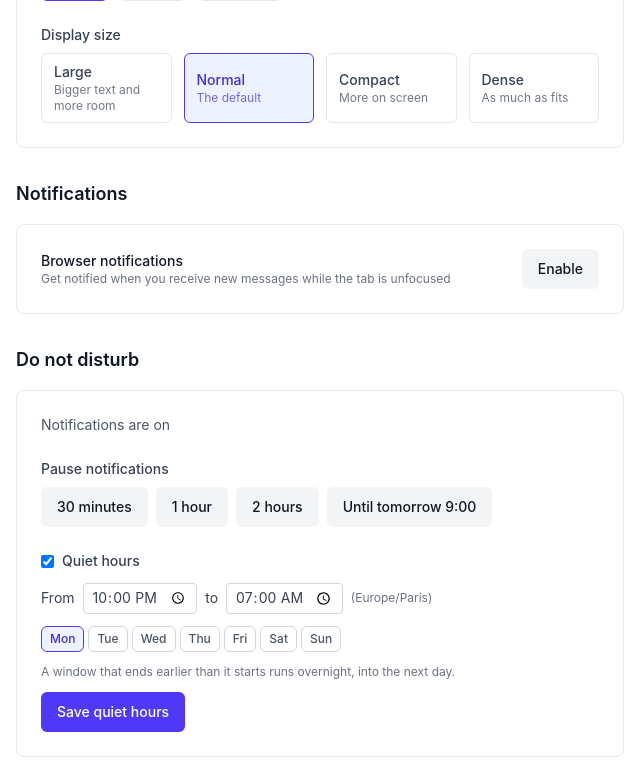
the settings section › cannot save quiet hours with no day
This screenshot has width=641, height=774.
(page scrolled)
Expected: the text "Pause notifications" is shown, x1=41 y1=460 x2=169 y2=477
Click the button "Mon". click: [63, 639]
box: x1=41 y1=626 x2=84 y2=652
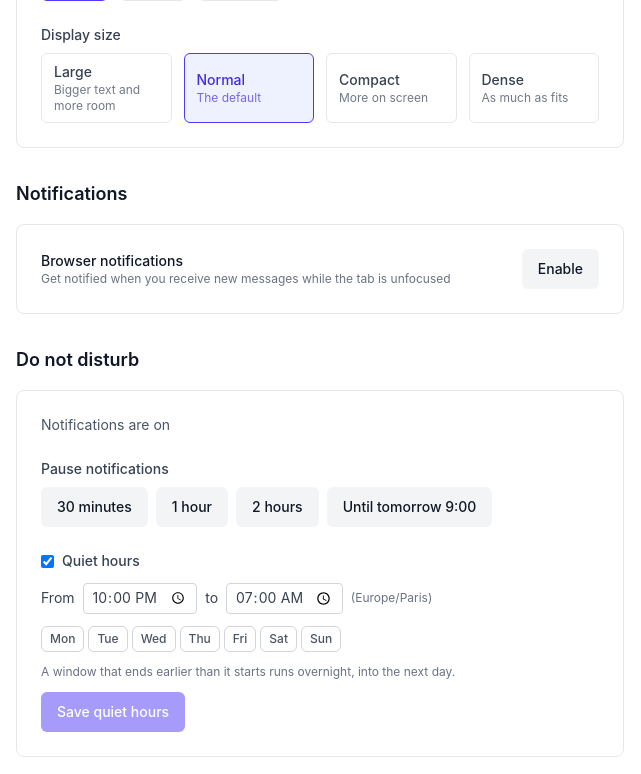
Result: the button "Save quiet hours" is disabled at x1=41 y1=692 x2=185 y2=732
